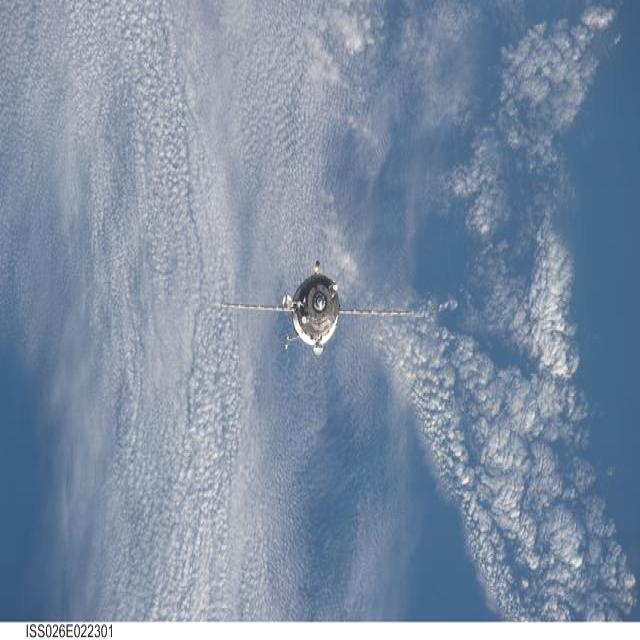satellite: (202, 222, 421, 393)
